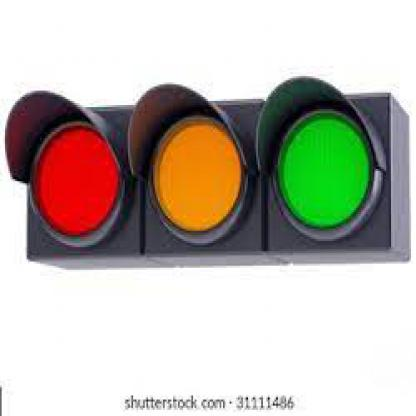traffic-light: (3, 84, 396, 258)
